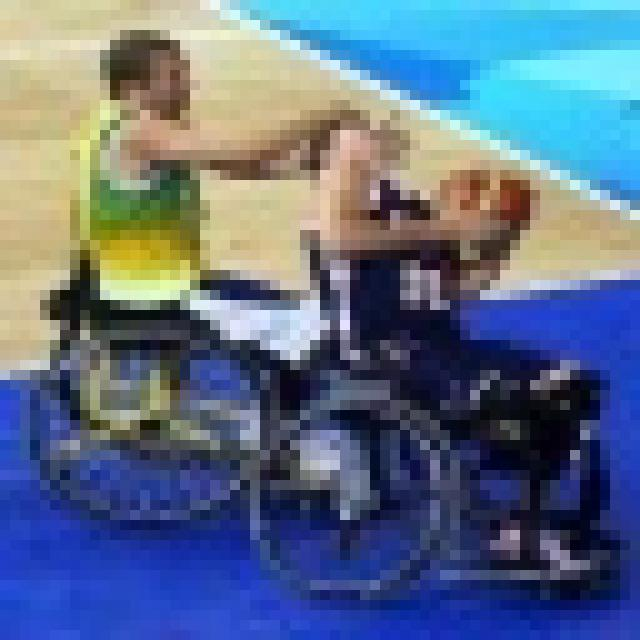wheelchairs: (245, 227, 635, 599), (33, 239, 309, 525)
